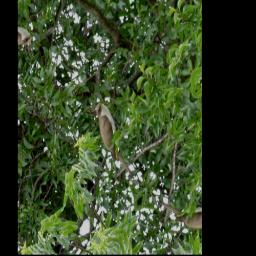Cuckoo: (81, 93, 154, 183)
